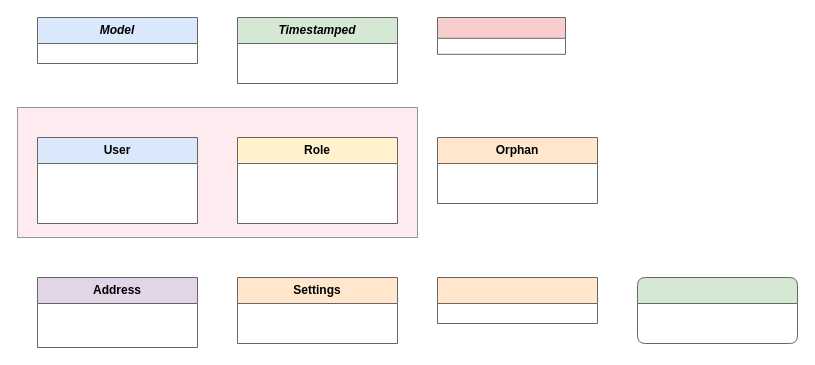
Image size: 815x365. Some labels were removed from this diagram. Here are the shapes that lost their labels. From the top down, the box of each, then its label:
(436, 16, 566, 54): Auditable
(16, 106, 418, 238): Comptes
(636, 276, 798, 344): ActiveUsers
